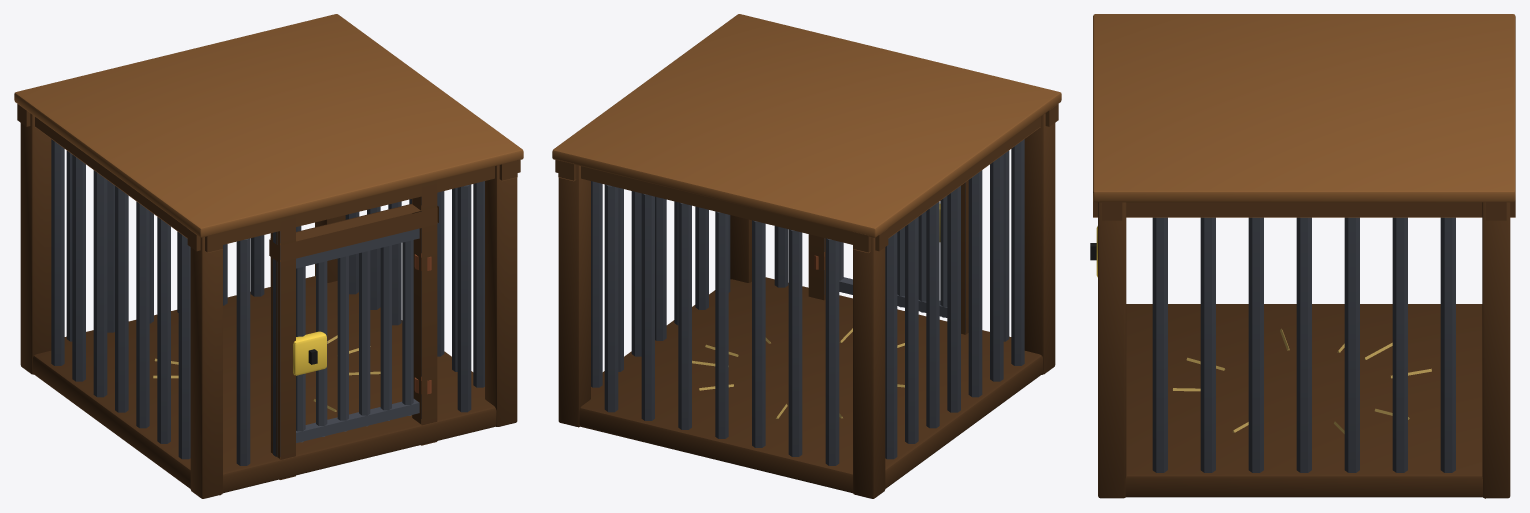
The model's file is cage.glb.
The picture shows the model from 3 angles, left to right: view 1: azimuth 30°, elevation 25°; view 2: azimuth 150°, elevation 25°; view 3: azimuth 270°, elevation 25°; orthographic projection. The views are drawn at different scales.
Visible parts, largest first — view 1: cage, door, cage_craft; view 2: cage, door; view 3: cage, cage_craft.
Boxes of the visible parts, box(x1,y1,x2,y2) form: cage: box(14, 14, 523, 498); door: box(293, 228, 419, 442); cage_craft: box(153, 253, 431, 411); cage: box(552, 14, 1061, 498); door: box(839, 196, 947, 317); cage: box(1093, 14, 1515, 498); cage_craft: box(1172, 328, 1431, 433).
Size of the model in its own units: 3.3 by 2.68 by 3.32.
